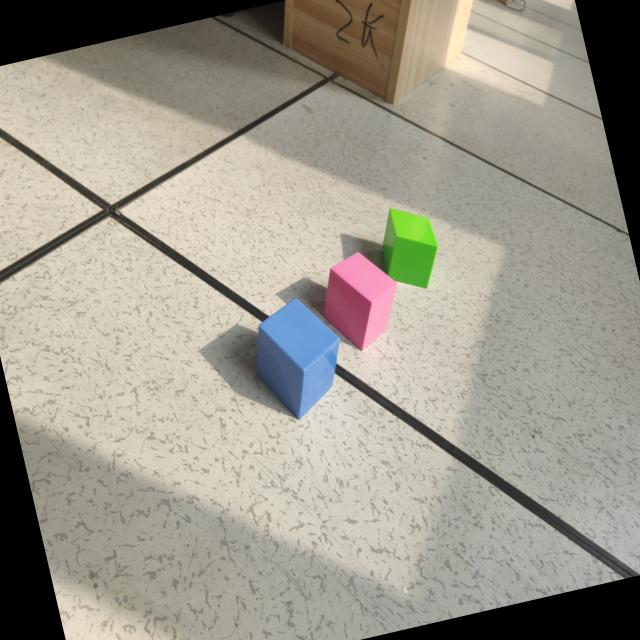blue: (256, 299, 341, 420)
green: (379, 208, 440, 294)
pink: (321, 252, 397, 351)
